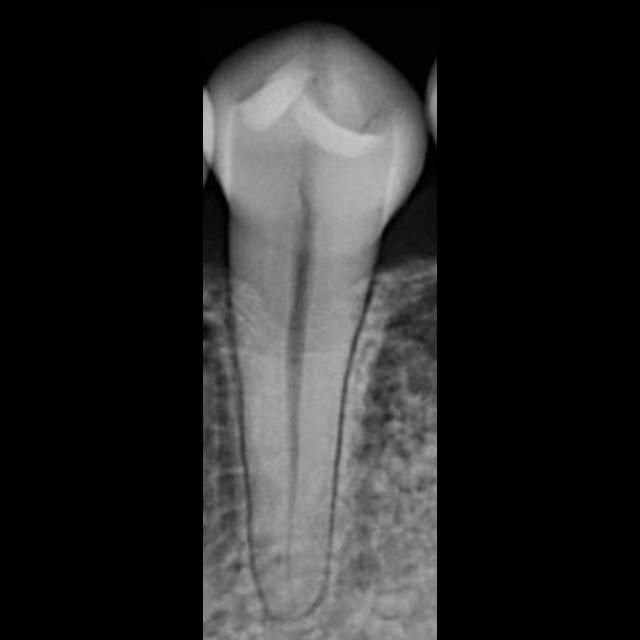tooth: (205, 25, 424, 638)
